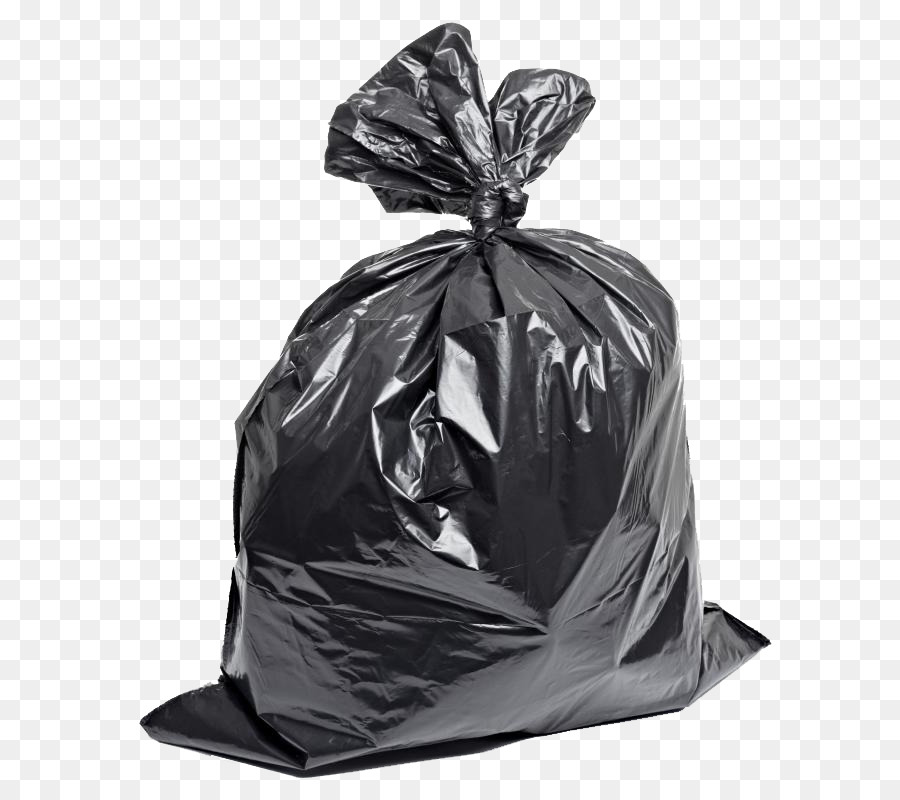plastic_bagwdw: (63, 18, 820, 785)
